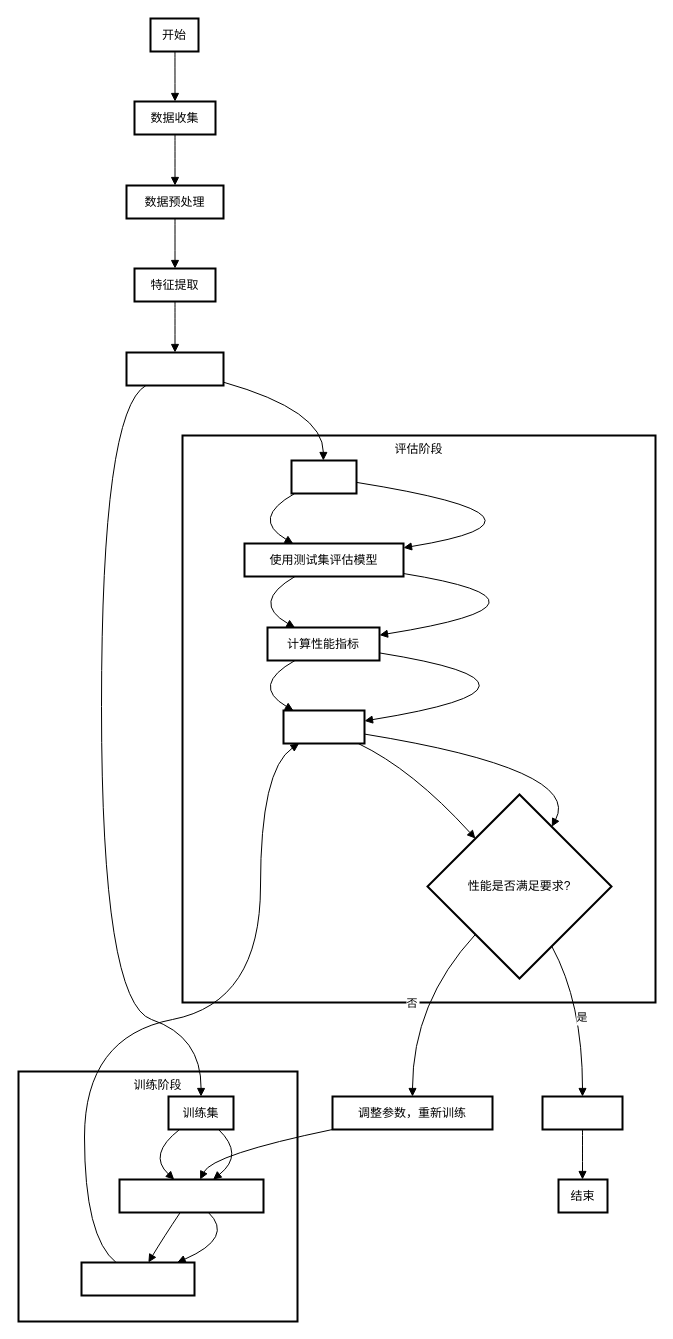
The diagram is 673 pixels wide and 1339 high, and some of its shapes have lost their labels. Here are the shapes that lost their labels. From the top down, the centre of each, then its label:
At point (174, 368): "数据集划分".
At point (323, 476): "测试集".
At point (323, 726): "模型优化".
At point (582, 1112): "保存模型".
At point (191, 1195): "训练随机森林模型".
At point (137, 1278): "模型训练完成".
